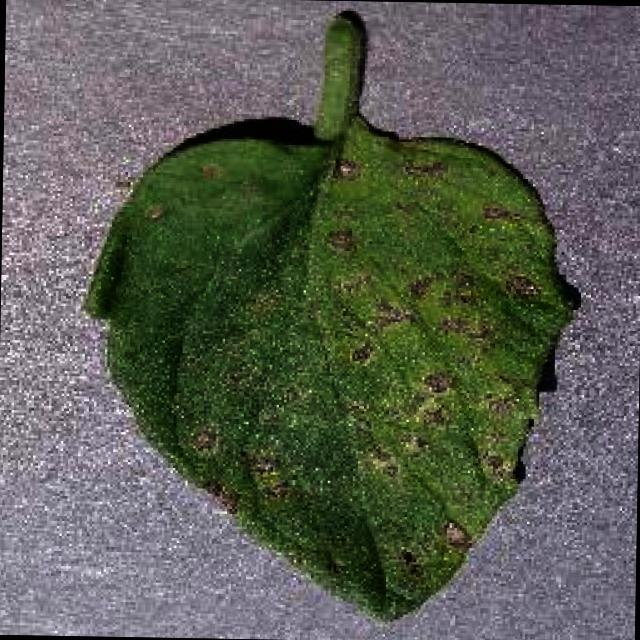Tomato Septoria spot leaf: (72, 122, 580, 624)
